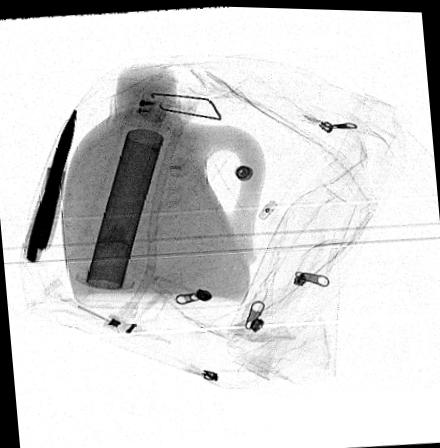Pliers: (24, 110, 76, 262)
